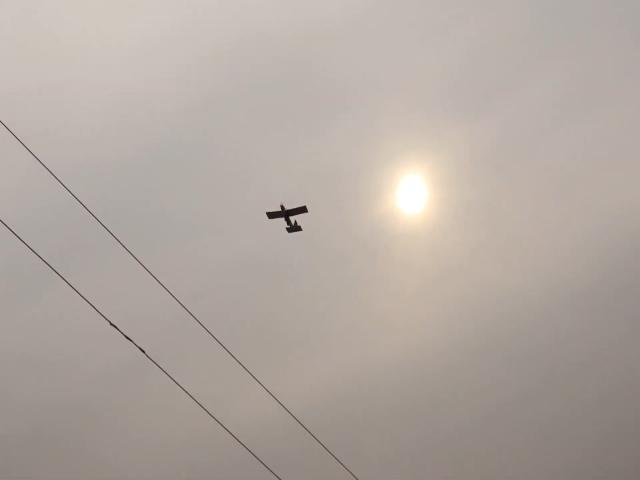plane: (265, 202, 308, 234)
